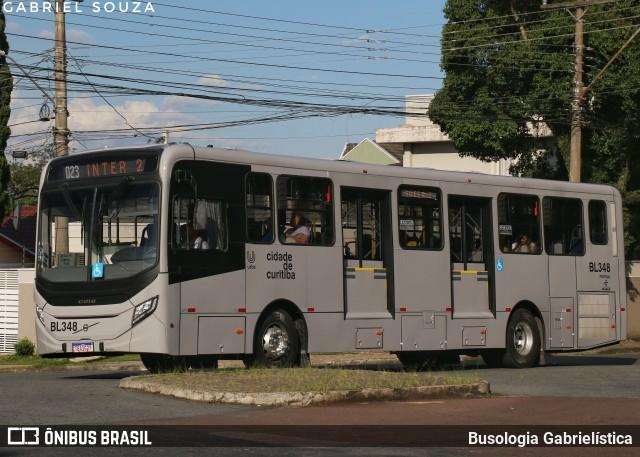INTER 2: (83, 154, 147, 181)
